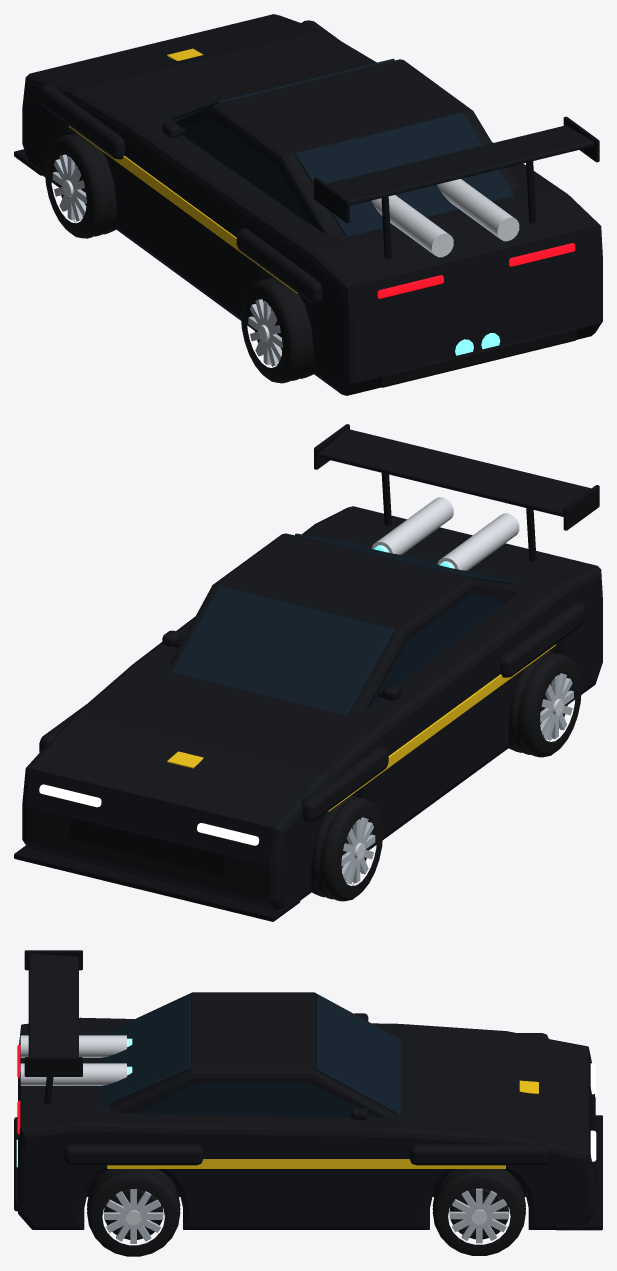
The model's file is hornet-rs.glb.
3 views of the same model, one above another, from view 1: azimuth 30°, elevation 25°; view 2: azimuth 150°, elevation 25°; view 3: azimuth 270°, elevation 25° (orthographic). The views are drawn at different scales.
Visible parts, largest first — view 1: Body, Cabin, RearWindow, Tire (×2), Wing, WideFlare (×2), NitroTank (×2), SideGlass, Diffuser, SideStripe, WingEndplate (×2), TailLight (×2) (+1 smaller); view 2: Body, Windscreen, Cabin, Wing, Tire (×2), WideFlare (×2), NitroTank (×2), Splitter, SideGlass, Grille, SideStripe, RearWindow (+2 smaller); view 3: Body, Cabin, Tire (×2), Windscreen, WideFlare (×2), RearWindow, SideGlass, Wing, SideStripe, NitroTank (×2), WingEndplate (×2), RimDish (×2) (+1 smaller).
Part boxes in pixels (box(x1,y1,x2,y2)): Body: box(22, 14, 602, 395); Cabin: box(175, 59, 519, 234); RearWindow: box(295, 112, 513, 236); Tire (×2): box(45, 132, 313, 383); Wing: box(326, 125, 593, 205); WideFlare (×2): box(39, 84, 322, 303); NitroTank (×2): box(371, 179, 519, 257); SideGlass: box(181, 119, 310, 224); Diffuser: box(375, 326, 576, 387); SideStripe: box(69, 126, 297, 293); WingEndplate (×2): box(314, 116, 599, 223); TailLight (×2): box(377, 243, 575, 298); Body: box(22, 506, 602, 908); Windscreen: box(172, 586, 394, 714); Cabin: box(169, 533, 519, 711); Wing: box(319, 429, 590, 516); Tire (×2): box(311, 650, 581, 901); WideFlare (×2): box(301, 602, 585, 821); NitroTank (×2): box(371, 497, 519, 570); Splitter: box(14, 845, 300, 921); SideGlass: box(369, 593, 505, 707); Grille: box(70, 816, 225, 875); SideStripe: box(328, 644, 556, 811); RearWindow: box(295, 533, 513, 584); Body: box(18, 1017, 594, 1229); Cabin: box(110, 992, 390, 1117); Tire (×2): box(87, 1169, 525, 1256); Windscreen: box(316, 994, 400, 1113); WideFlare (×2): box(64, 1144, 548, 1165); RearWindow: box(99, 995, 190, 1106); SideGlass: box(139, 1083, 377, 1117); Wing: box(28, 953, 78, 1056); SideStripe: box(107, 1159, 505, 1168); NitroTank (×2): box(20, 1035, 126, 1085); WingEndplate (×2): box(24, 950, 82, 1076); RimDish (×2): box(103, 1188, 509, 1239).
Size of the model in its own units: 2.26 by 1.6 by 4.43.
